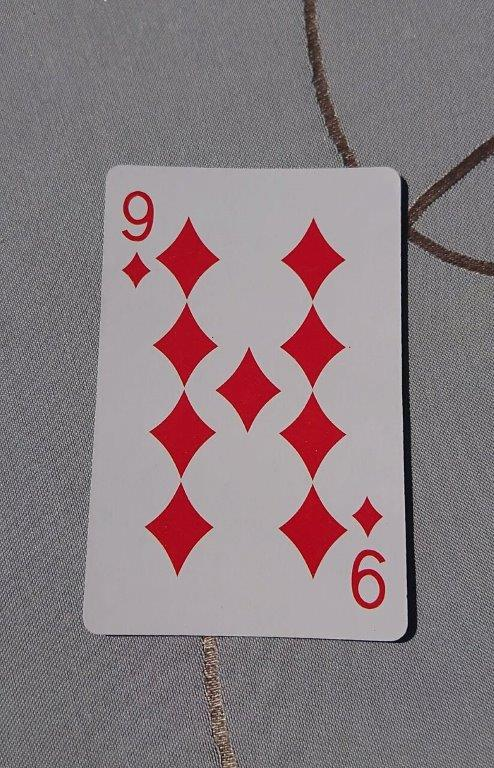9D: (80, 162, 409, 644)
